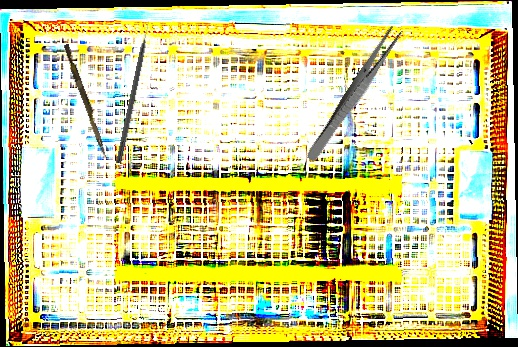Dressing Forceps: (304, 24, 405, 165)
Hook Surgical: (116, 20, 153, 165)
Pusher: (60, 43, 112, 159)
